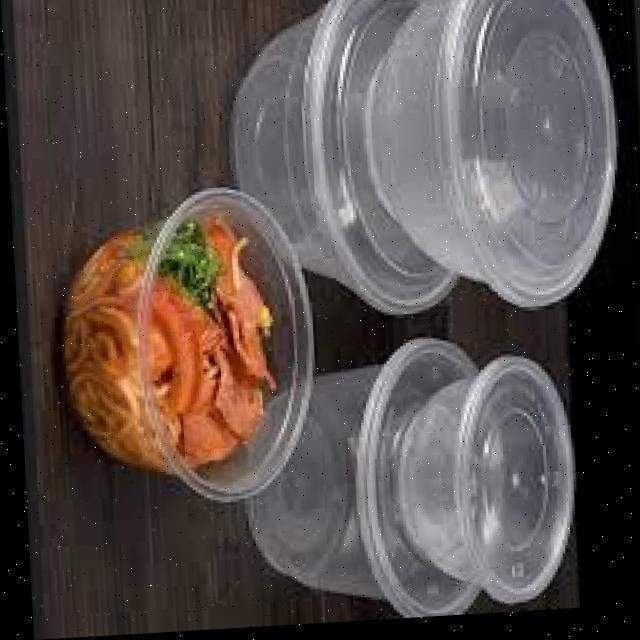disposable: (36, 179, 308, 540), (357, 0, 613, 335), (205, 0, 464, 322), (227, 344, 479, 629), (378, 351, 595, 623)
